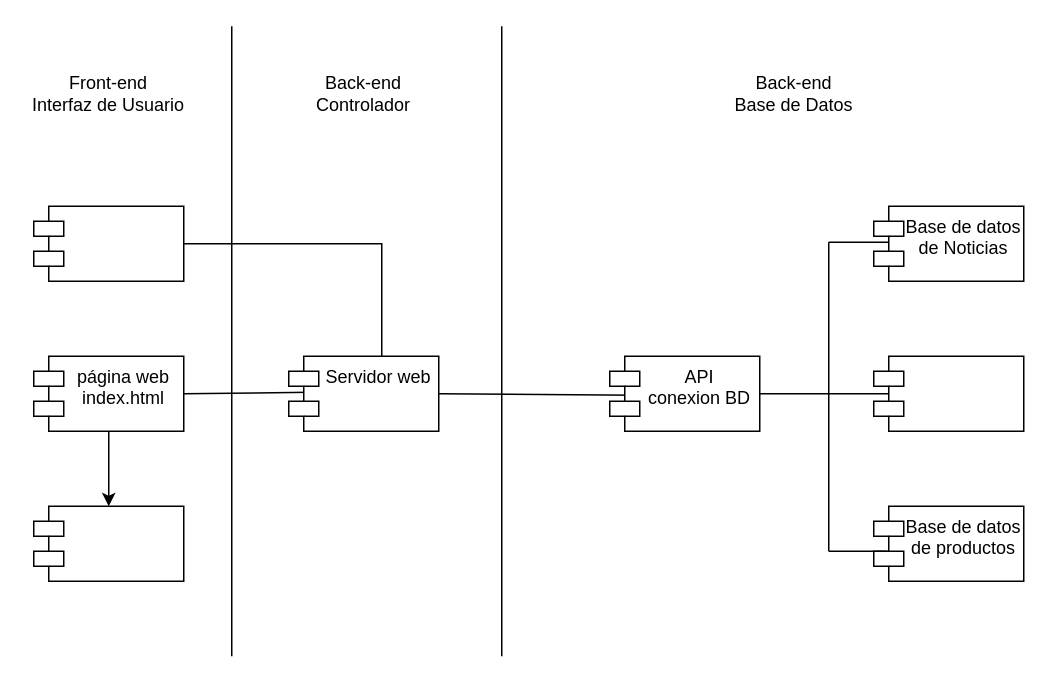
This 1050x684 diagram has some shape labels left out. Each missing label, with the centre of its shape:
app móvil: pixel 108 243
Base de datos Usuarios: pixel 948 393
hoja de estilo style.css: pixel 108 543
